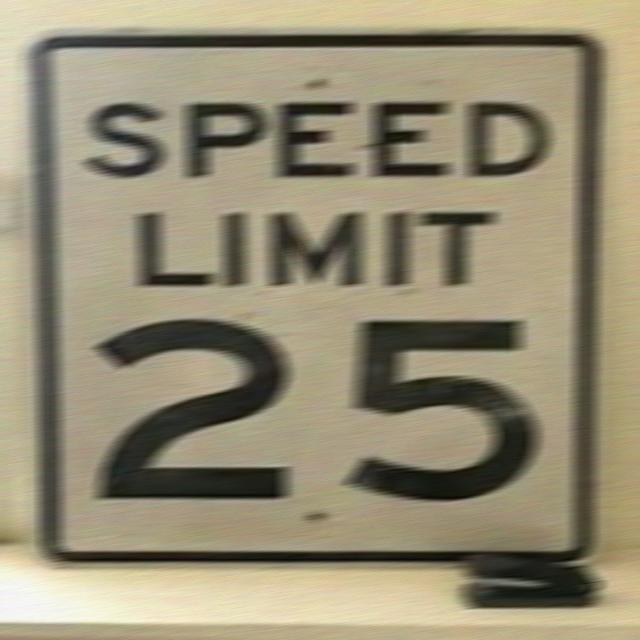speedLimit25: (24, 32, 593, 554)
